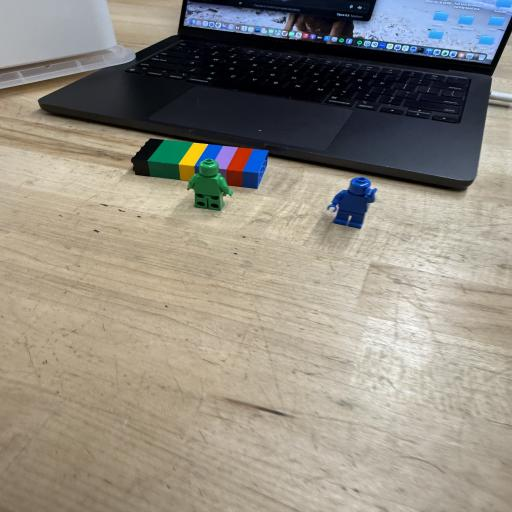blue-minifig: (328, 177, 376, 228)
green-minifig: (188, 160, 233, 210)
